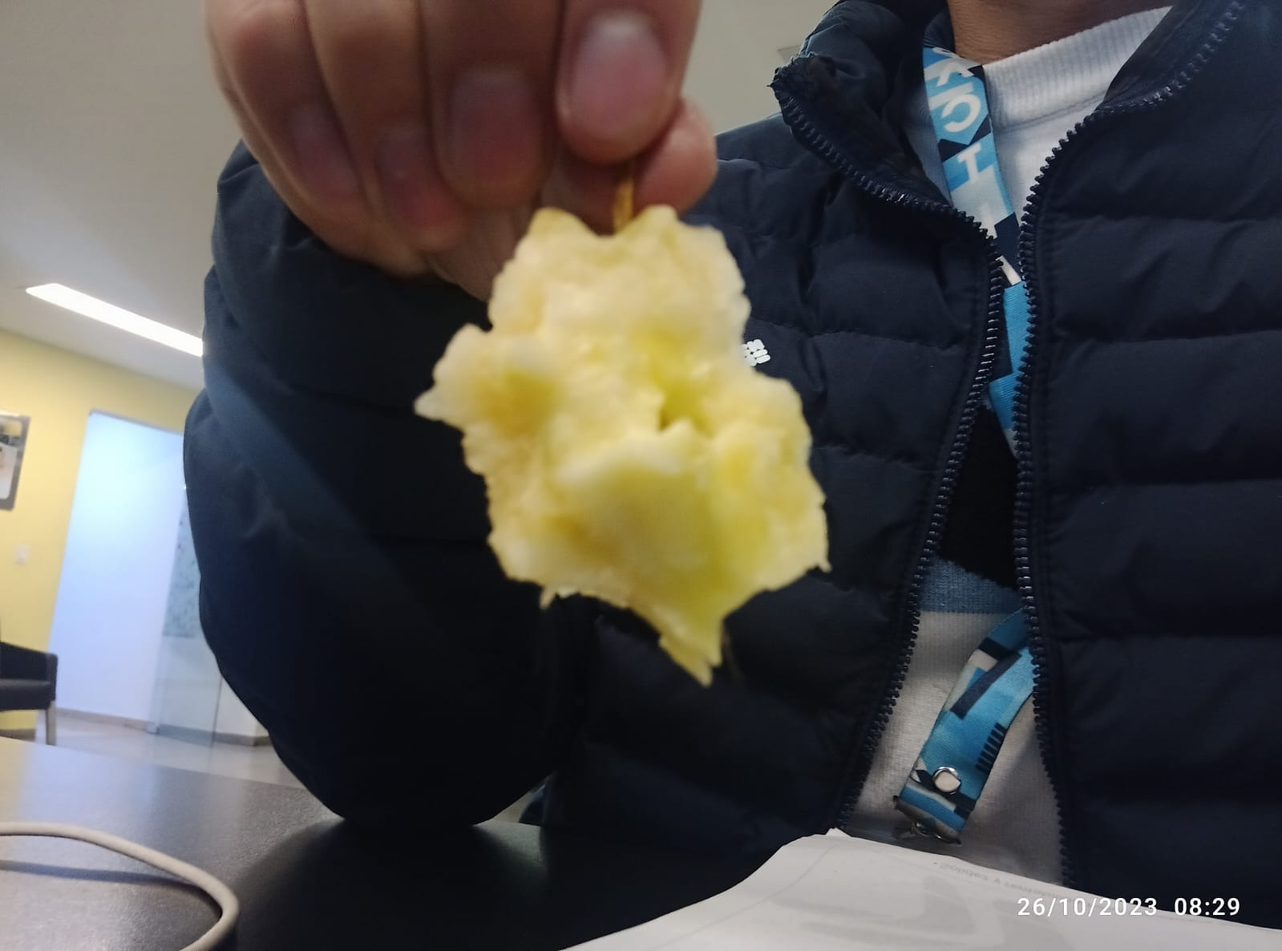Organico: (411, 203, 829, 687)
